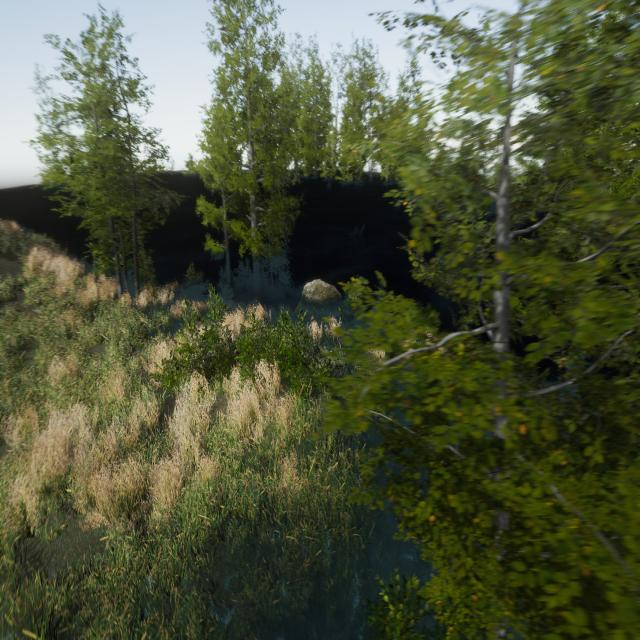Human: (299, 306, 325, 353)
